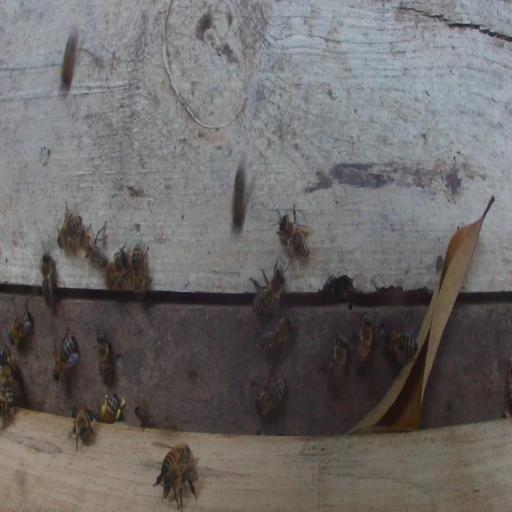nonpollenbee: (276, 203, 312, 277), (250, 256, 285, 315), (162, 463, 198, 509), (258, 312, 294, 356), (321, 332, 348, 388), (52, 329, 79, 384), (57, 199, 83, 256), (130, 242, 152, 299), (156, 446, 189, 484), (69, 404, 95, 451), (82, 221, 107, 268), (385, 329, 419, 363), (353, 313, 373, 370), (60, 31, 77, 95), (8, 303, 33, 346), (231, 164, 247, 228), (96, 329, 114, 385), (105, 249, 130, 289), (256, 381, 284, 415), (41, 251, 56, 310), (1, 376, 16, 428), (134, 405, 155, 430), (1, 347, 17, 377), (72, 363, 73, 364)
pollenbee: (101, 393, 121, 422)
